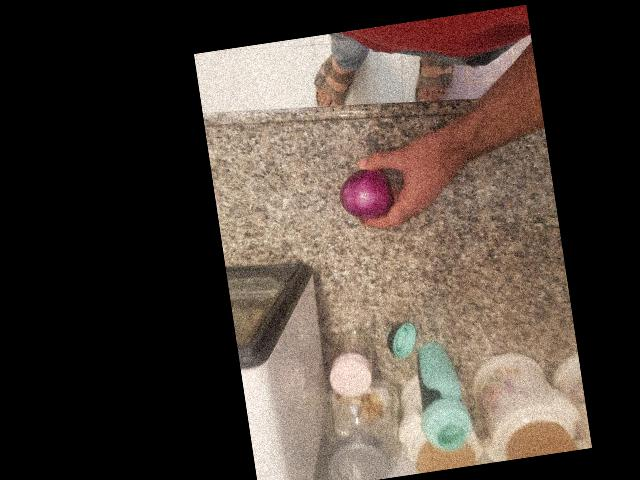onion: (256, 304, 316, 368)
